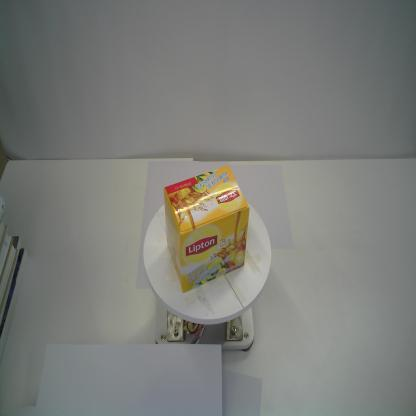Instant Drink: (163, 165, 250, 295)
